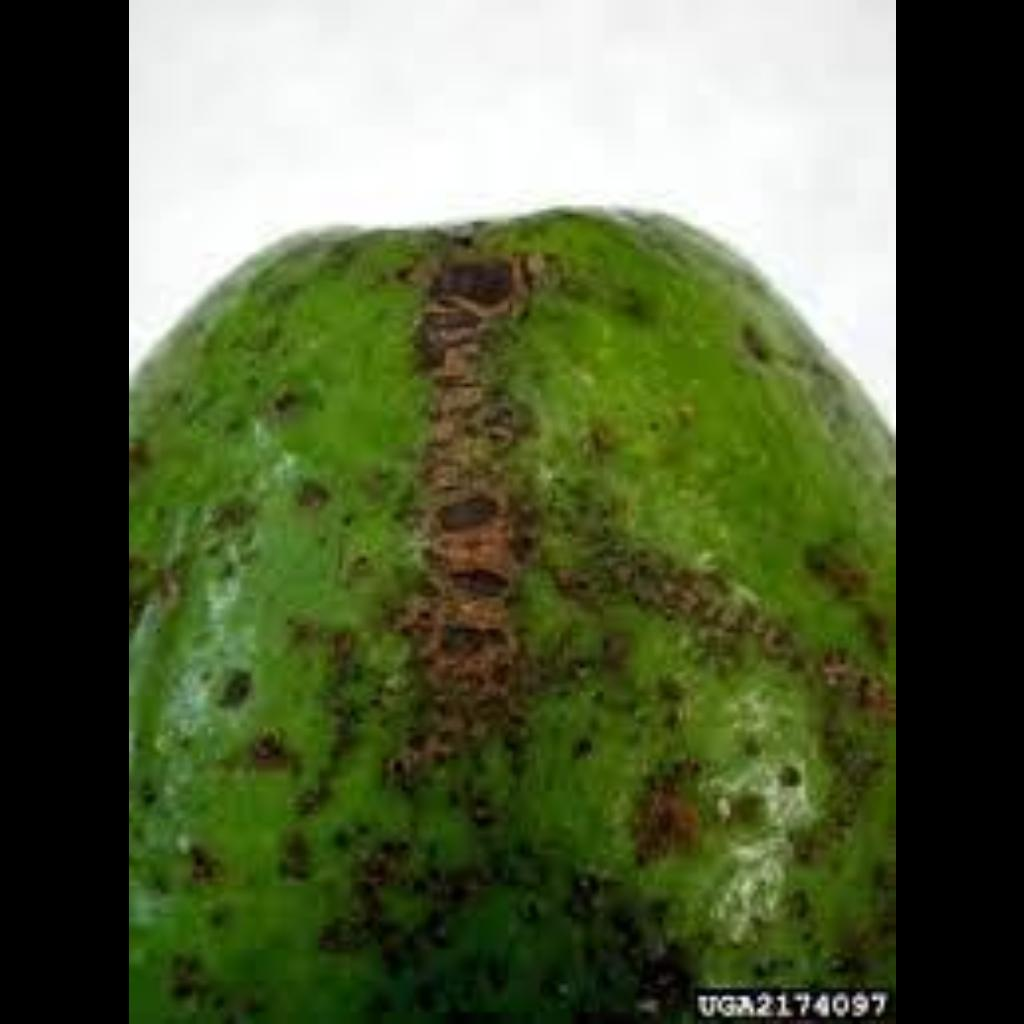cercospora_spot: (195, 243, 835, 907)
